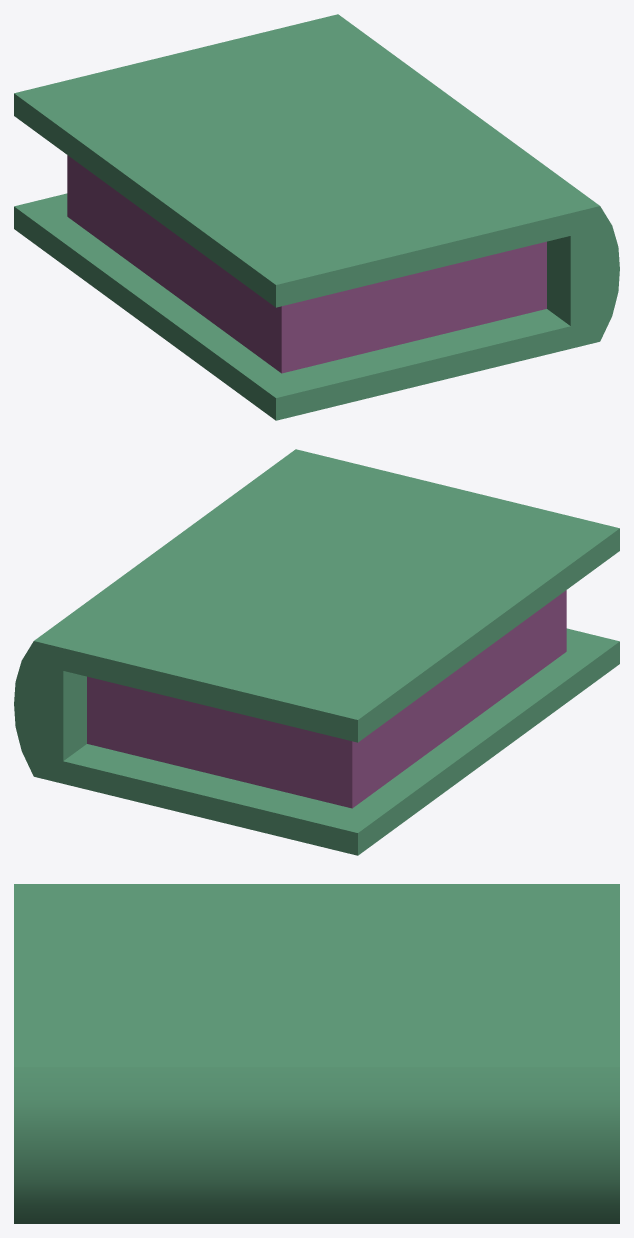
File: SpellBook.FBX
The picture shows the model from 3 angles, top to bottom: view 1: azimuth 30°, elevation 25°; view 2: azimuth 150°, elevation 25°; view 3: azimuth 270°, elevation 25°; orthographic projection. The views are drawn at different scales.
Visible parts, largest first — view 1: Box001; view 2: Box001; view 3: Box001.
Boxes of the visible parts, x1=… form: Box001: x1=14, y1=14, x2=619, y2=420; Box001: x1=14, y1=449, x2=619, y2=855; Box001: x1=14, y1=884, x2=619, y2=1223.
Bounding box in the file's own units: 26.52 × 10 × 35.
